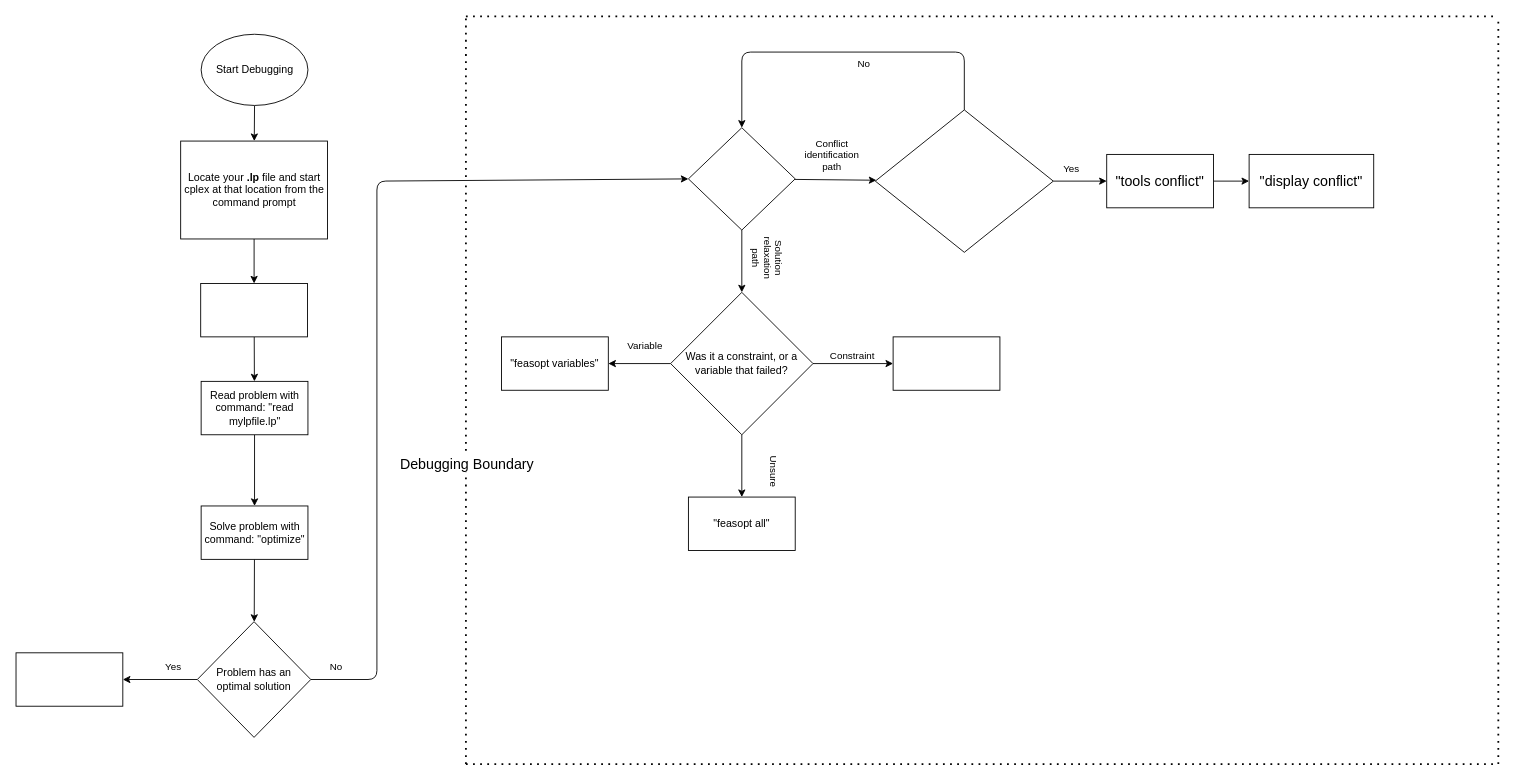
Some shapes in this 1515 by 781 pixel diagram are drawn without their labels. The box of each missing label's shape, as (x1, y1, x2, y2) in pixels:
"feasopt constraints": (892, 336, 1000, 390)
Are there constraint conflicts?: (874, 109, 1053, 252)
Feasibility analysis: (688, 127, 795, 230)
Start cmd and type "cplex": (200, 283, 307, 337)
Write solution and other files, or explore feasibility space: (15, 652, 123, 706)
